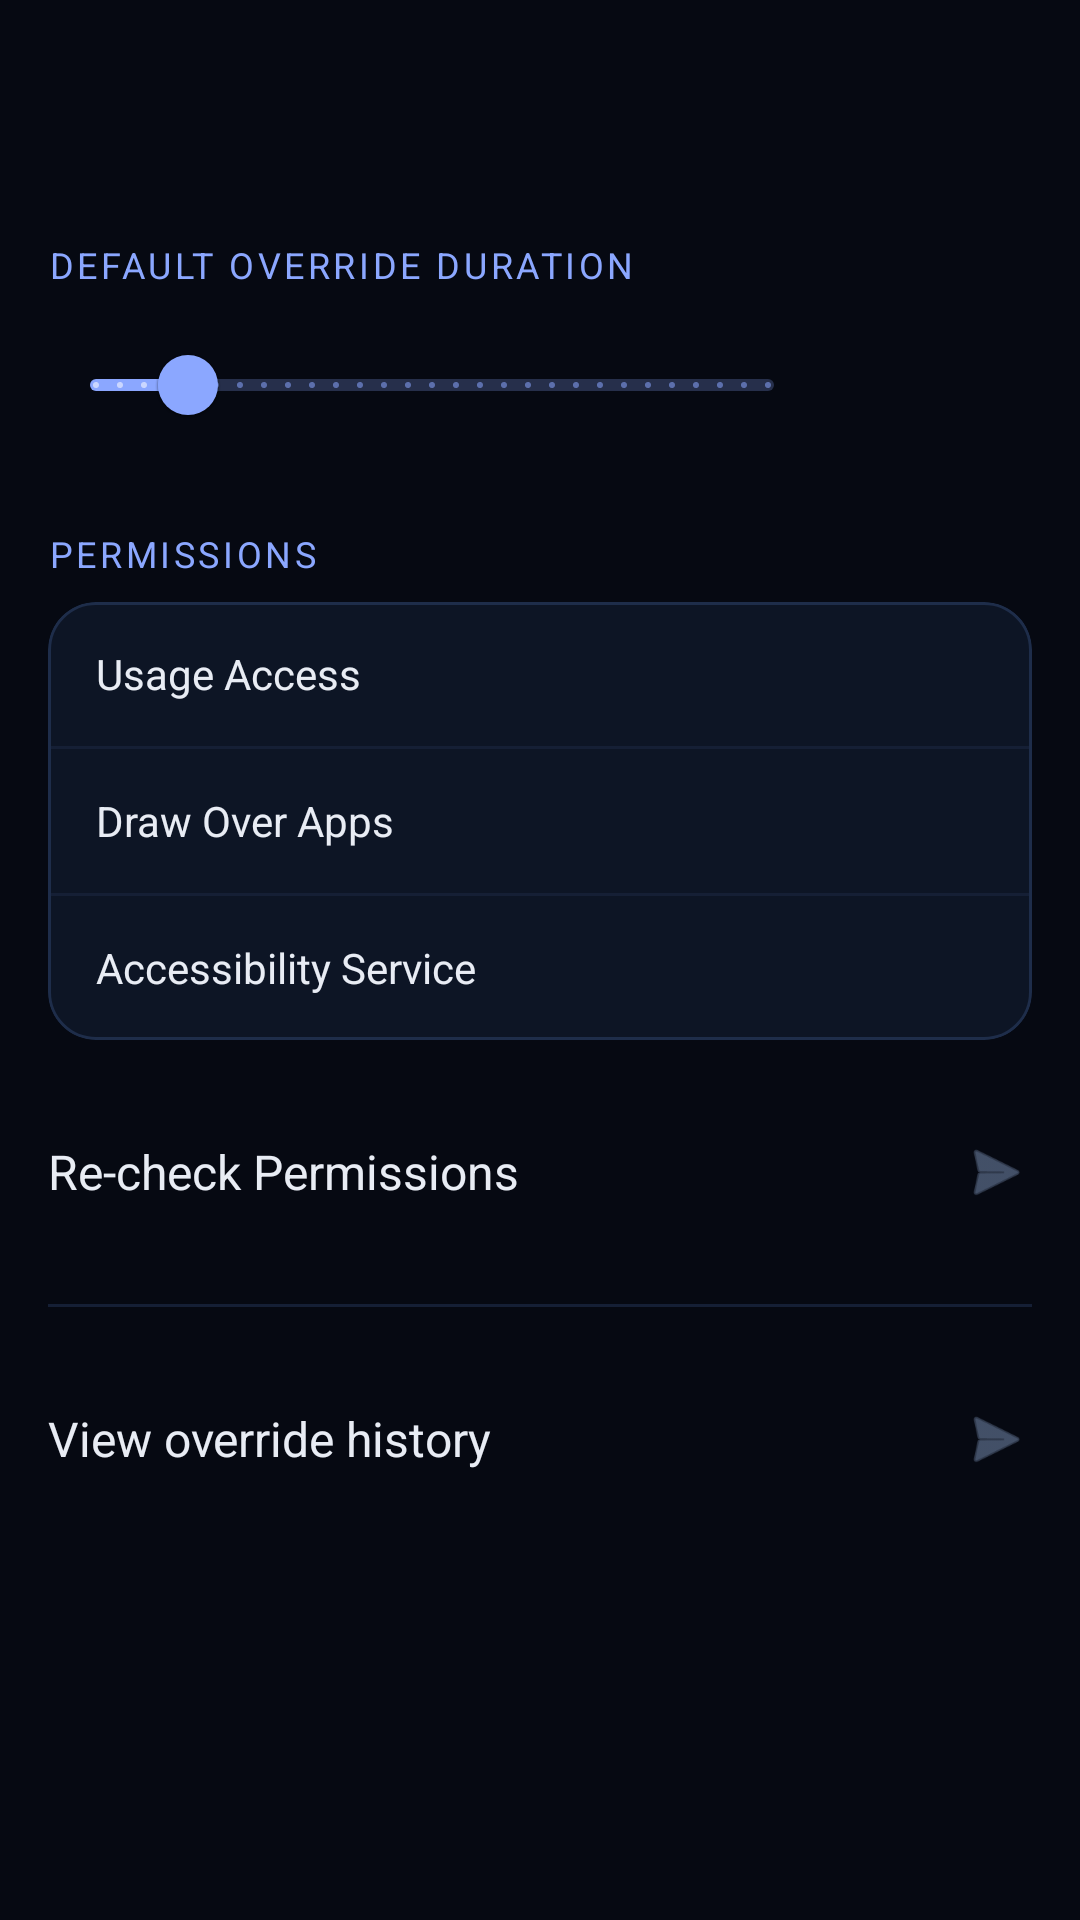

Where to tap for icons on this 1080*1920 app screen, as [x,y]:
send: [996,1172], [996,1439]
